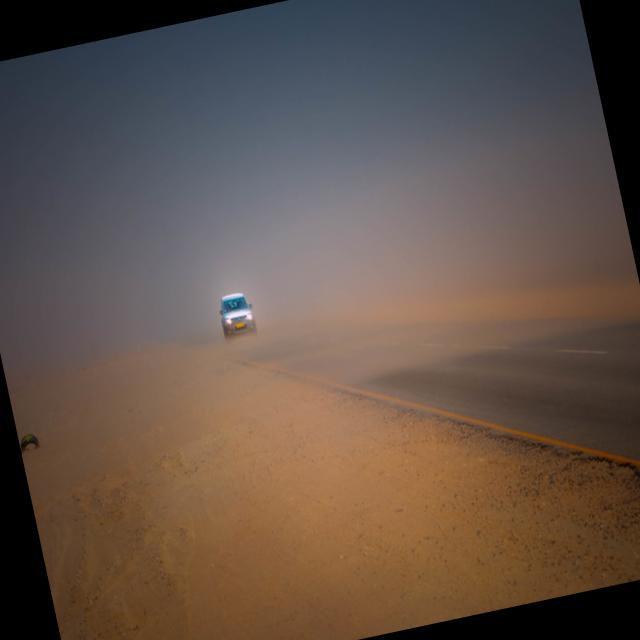car: (216, 290, 258, 338)
